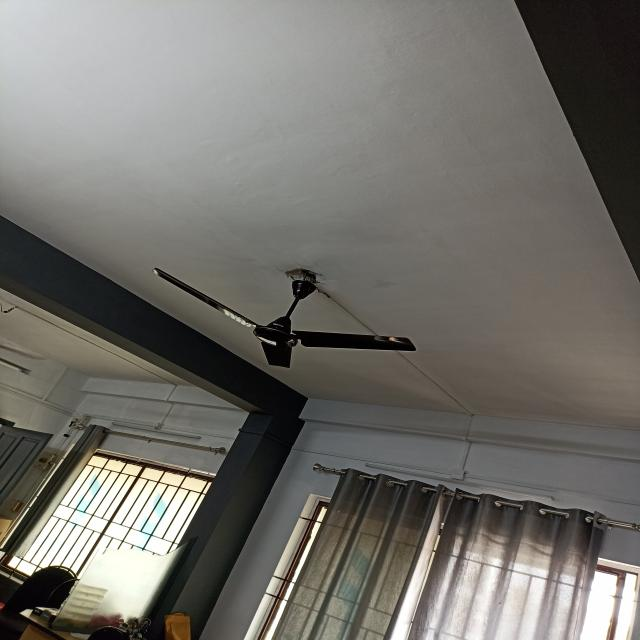fan: (152, 265, 416, 368)
